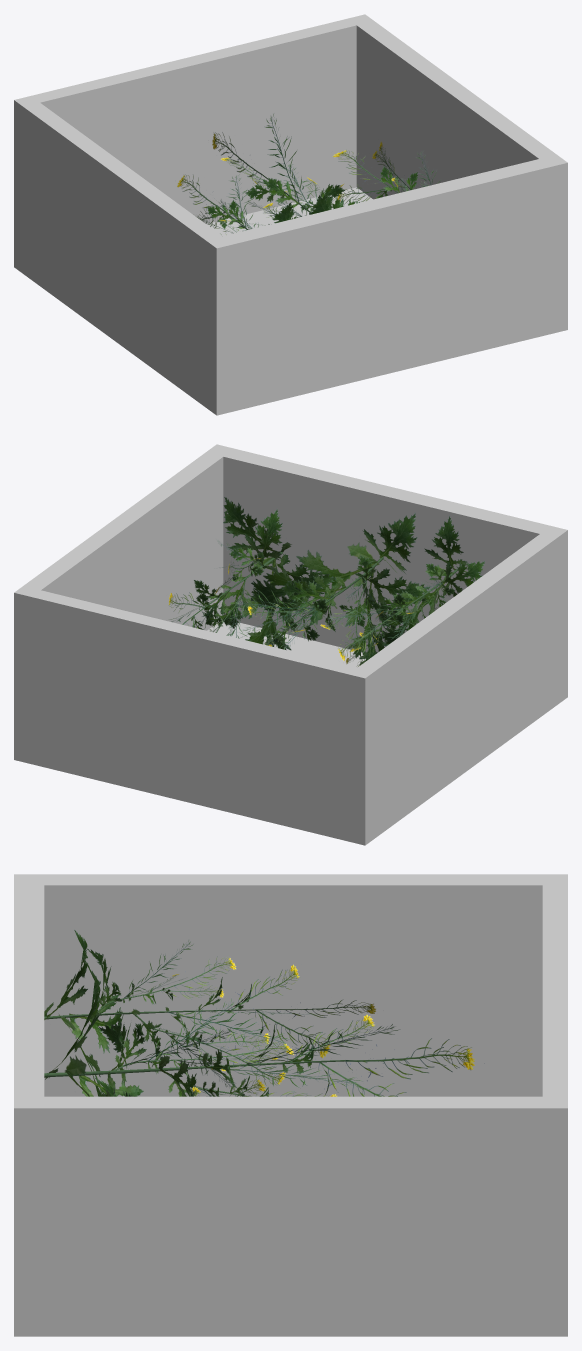
File: space2.gltf
3 renders of one model, top to bottom at view 1: azimuth 30°, elevation 25°; view 2: azimuth 150°, elevation 25°; view 3: azimuth 270°, elevation 25°, orthographic. The views are drawn at different scales.
Parts seen in each view (by area): view 1: Plane, plant3.005, plant3.002, plant3.001; view 2: Plane, plant3.005, plant3.002, plant3.001; view 3: Plane, plant3.005, plant3.001.
Boxes of the visible parts, x1,y1,x2,y2 form: Plane: [14, 14, 567, 415]; plant3.005: [212, 114, 359, 225]; plant3.002: [332, 141, 440, 204]; plant3.001: [177, 174, 296, 234]; Plane: [14, 444, 567, 845]; plant3.005: [233, 512, 430, 665]; plant3.002: [168, 497, 335, 650]; plant3.001: [326, 516, 484, 666]; Plane: [14, 874, 567, 1336]; plant3.005: [44, 956, 484, 1096]; plant3.001: [44, 929, 375, 1096].
Size of the model in its own units: 2 by 1.16 by 2.
Materials: 36 (31 with a texture image).
